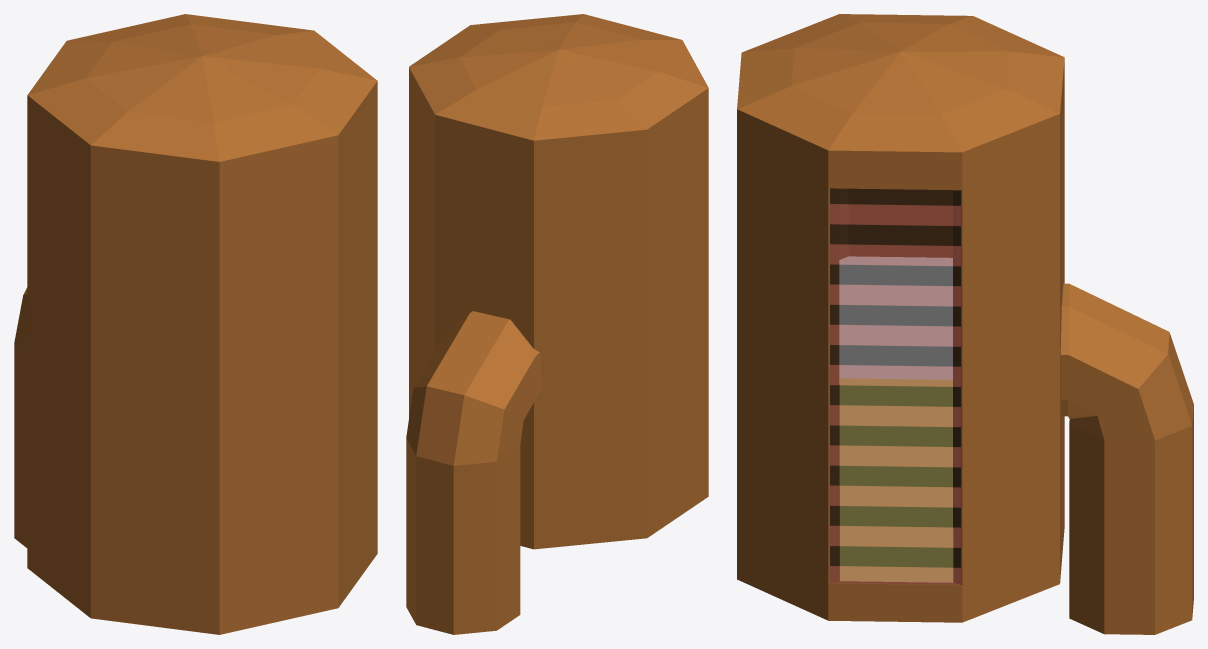
The model's file is VAT100.glb.
The picture shows the model from 3 angles, left to right: view 1: azimuth 30°, elevation 25°; view 2: azimuth 150°, elevation 25°; view 3: azimuth 270°, elevation 25°; orthographic projection. The views are drawn at different scales.
Parts seen in each view (by area): view 1: Cylinder, Cylinder.001; view 2: Cylinder, Cylinder.001; view 3: Cylinder, glass, Cylinder.001, liquidHeight.
Boxes of the visible parts, <box> form: Cylinder: <box>27,14,377,634</box>; Cylinder.001: <box>14,287,27,547</box>; Cylinder: <box>409,14,708,549</box>; Cylinder.001: <box>406,311,541,634</box>; Cylinder: <box>737,14,1064,622</box>; glass: <box>830,188,960,584</box>; Cylinder.001: <box>1060,283,1193,634</box>; liquidHeight: <box>839,256,952,582</box>.
Size of the model in its own units: 1.82 by 3.44 by 2.54.
Materials: 4 (1 with a texture image).
